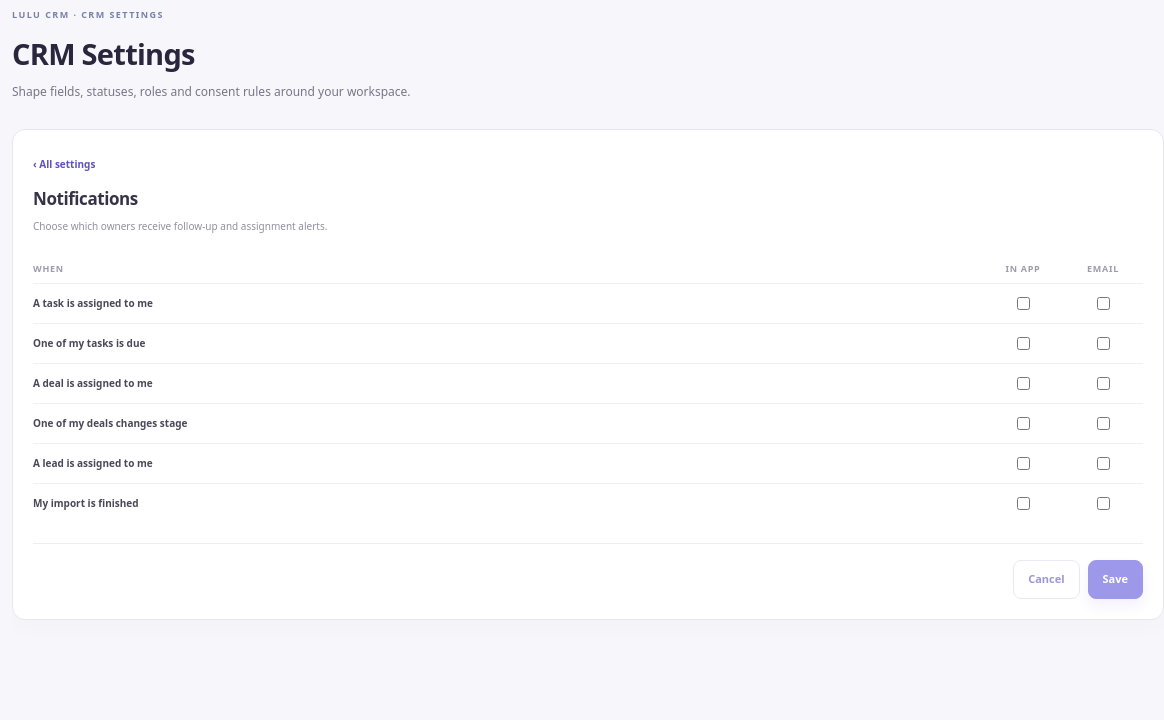
it: Roles, consent and notifications › saves notification channels
Click the checkbox named "One of my tasks is due: Email" at (1103, 343), box top-left (1096, 337), bottom-right (1110, 350)
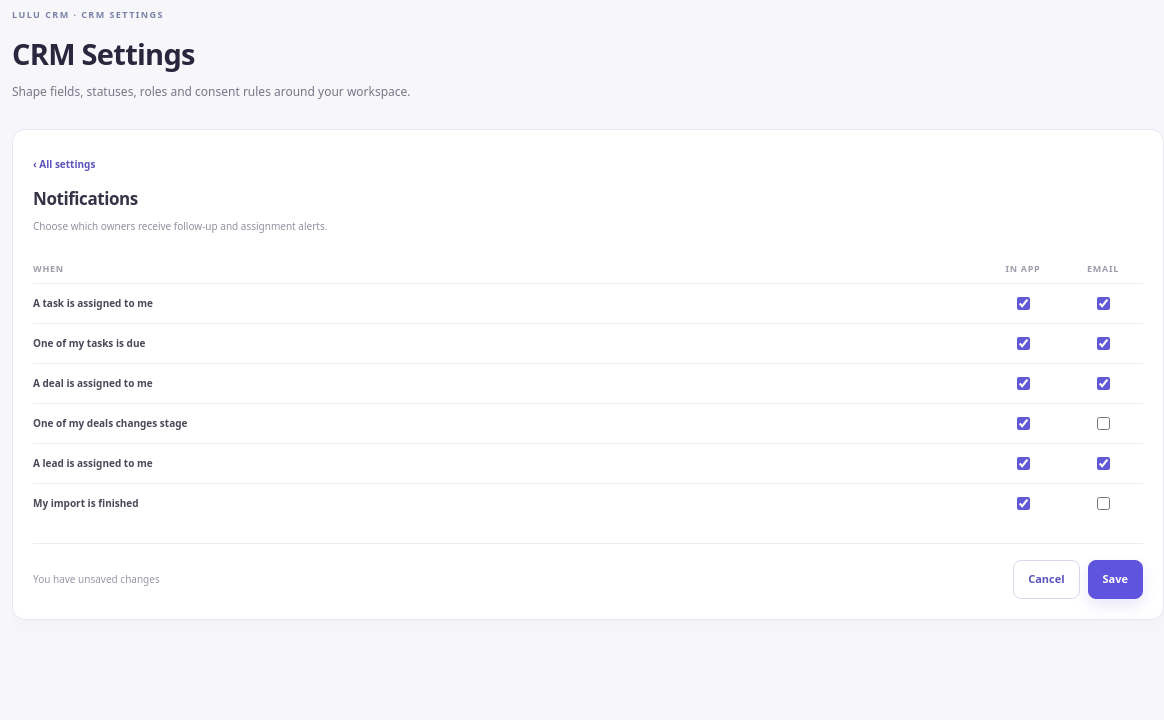
Click the button "Save" at (1115, 580), box top-left (1088, 560), bottom-right (1143, 599)
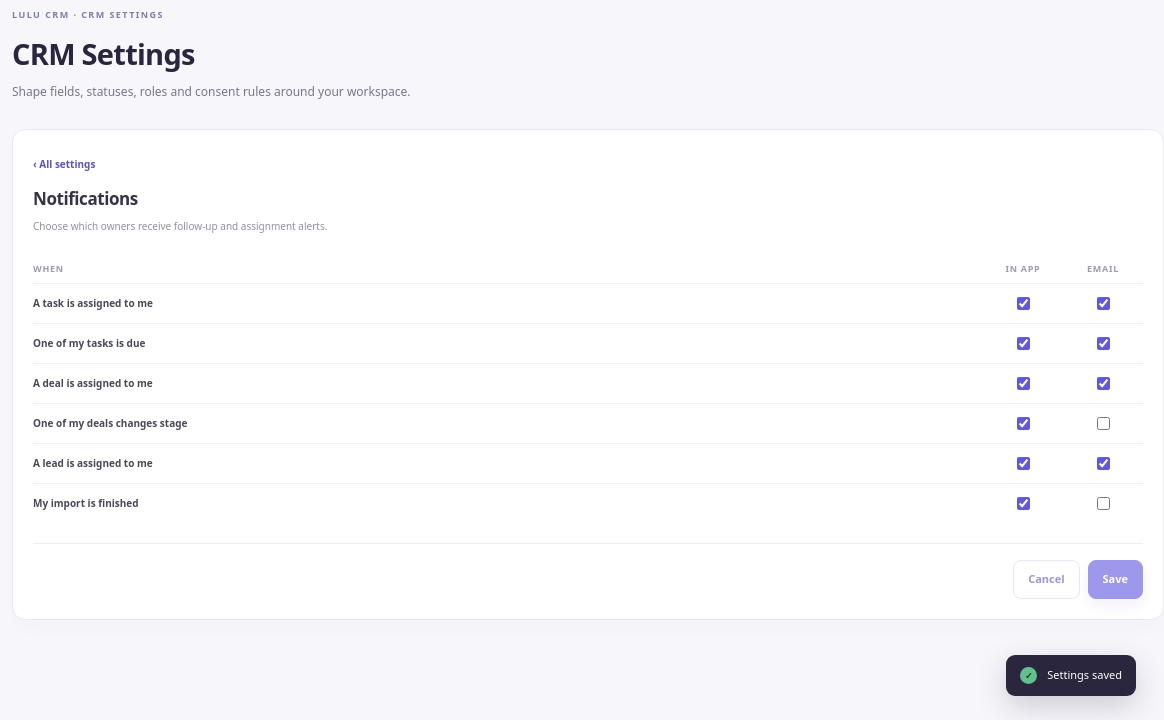
Result: the text "Settings saved" is shown at top-left (1047, 667), bottom-right (1122, 682)
